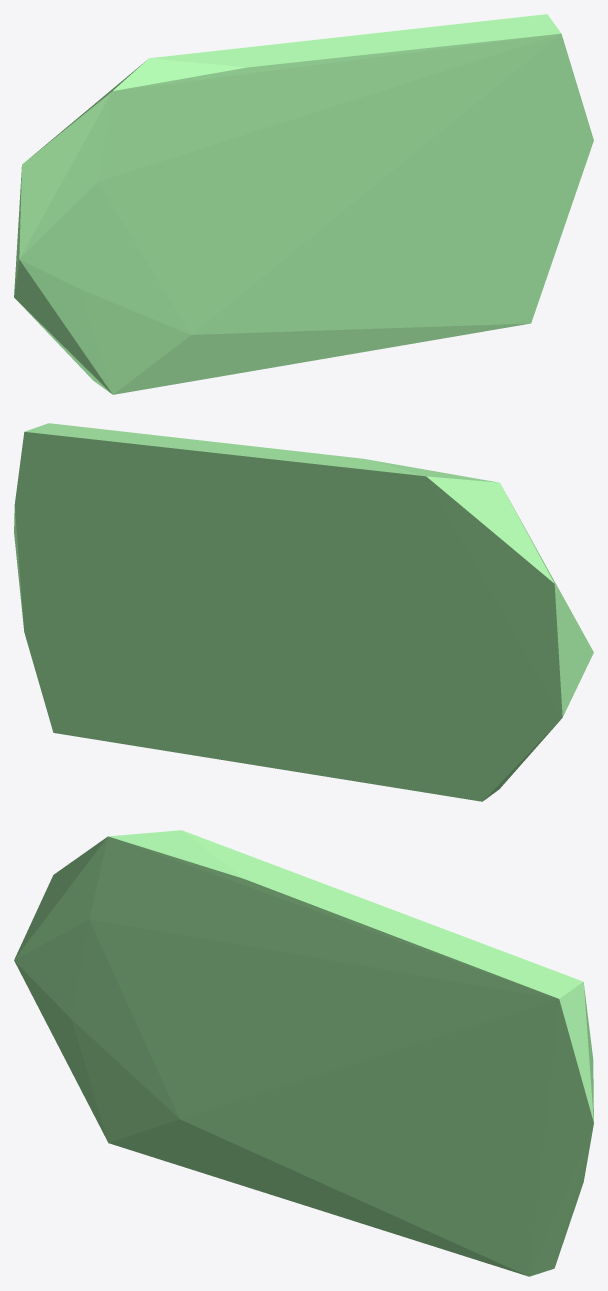
Rendered from UMIRobot_robot_base_coll_7.dae.
3 views of the same model, one above another, from view 1: azimuth 30°, elevation 25°; view 2: azimuth 150°, elevation 25°; view 3: azimuth 330°, elevation 25° (orthographic).
Visible parts, largest first — view 1: node; view 2: node; view 3: node.
Part boxes in pixels (x1=…): node: x1=14, y1=14, x2=593, y2=394; node: x1=14, y1=423, x2=593, y2=801; node: x1=14, y1=830, x2=593, y2=1276.
Size of the model in its own units: 0.0364 by 0.0209 by 0.00241.
